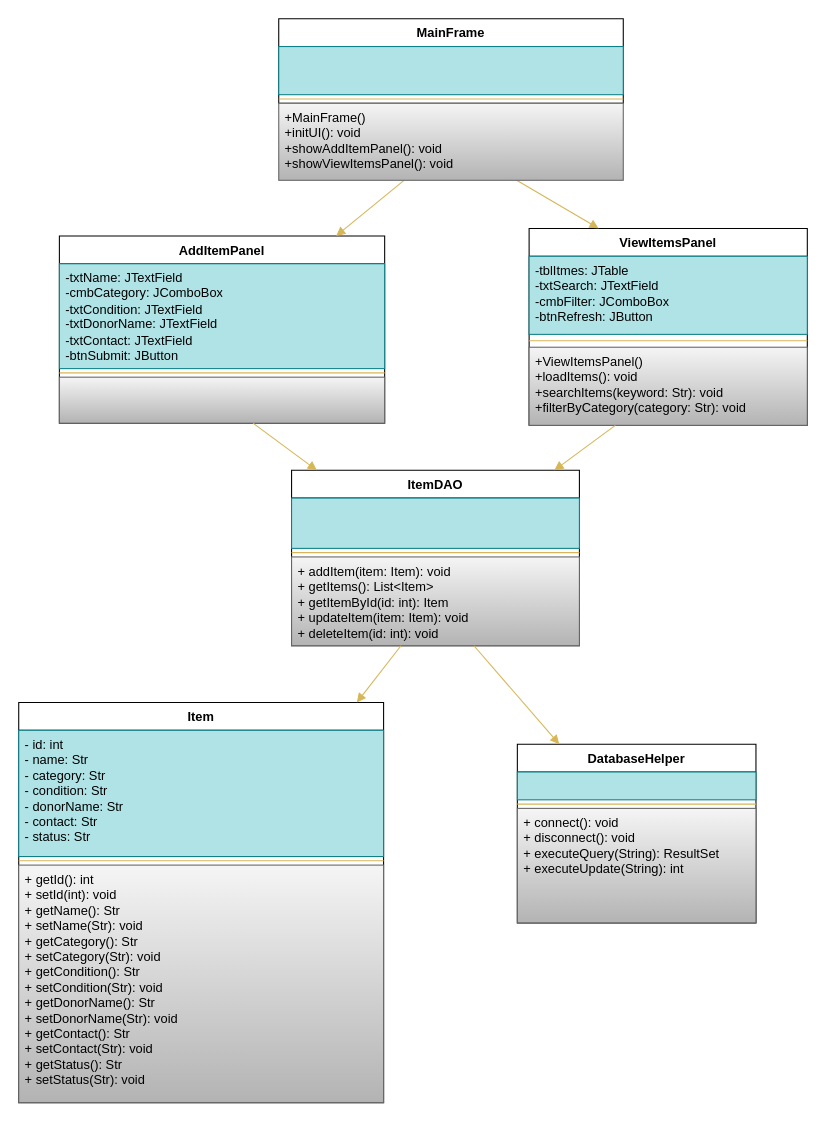
This 826x1125 diagram has some shape labels left out. The centre of each missing label's shape, as x and y in pixels:
+AddItemPanel() +SubmitForm(): void: pixel 221 399
- dbHelper: DatabaseHelper - connection: Connection: pixel 435 522
-addItemPanel: AddItemPanel -viewItesPanel: ViewItemsPanel: pixel 450 70
-connection: Connection: pixel 636 785
